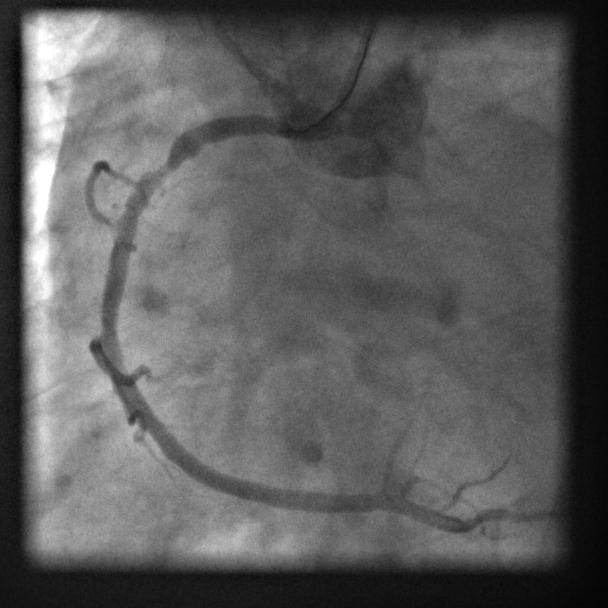Stenosis: (139, 141, 182, 193)
